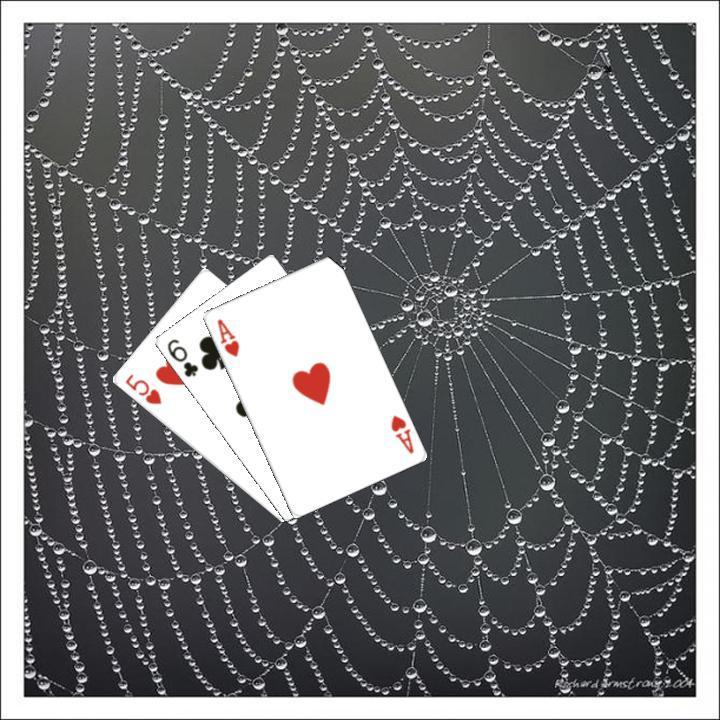5: (120, 369, 163, 407)
6: (162, 334, 200, 379)
A: (212, 314, 241, 359), (386, 411, 415, 456)
